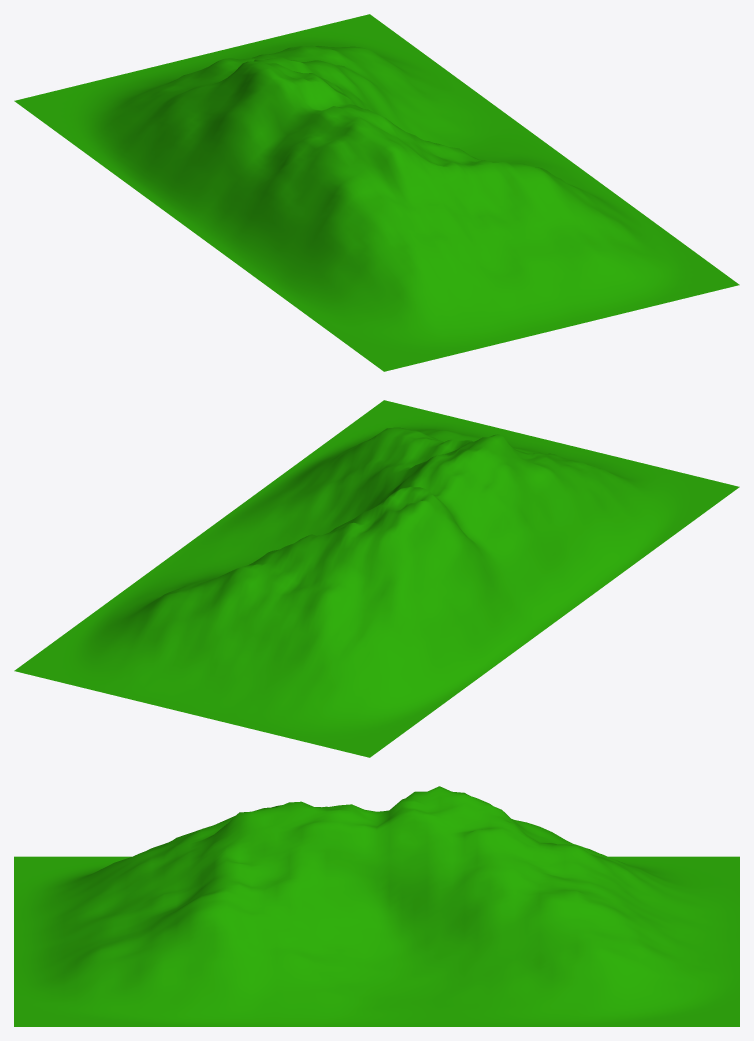
File: Mountain.fbx
3 views of the same model, one above another, from view 1: azimuth 30°, elevation 25°; view 2: azimuth 150°, elevation 25°; view 3: azimuth 270°, elevation 25° (orthographic).
Visible parts, largest first — view 1: Mountain; view 2: Mountain; view 3: Mountain.
Part boxes in pixels (left/top/right/bottom): Mountain: left=14, top=14, right=739, bottom=371; Mountain: left=14, top=400, right=739, bottom=757; Mountain: left=14, top=786, right=739, bottom=1026.
Bounding box in the file's own units: 29.2 × 9.39 × 52.6.
